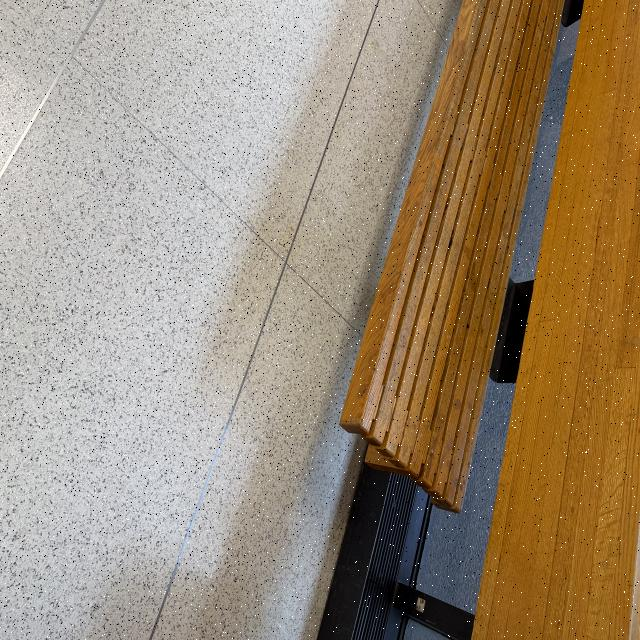Bench: (160, 20, 561, 383)
